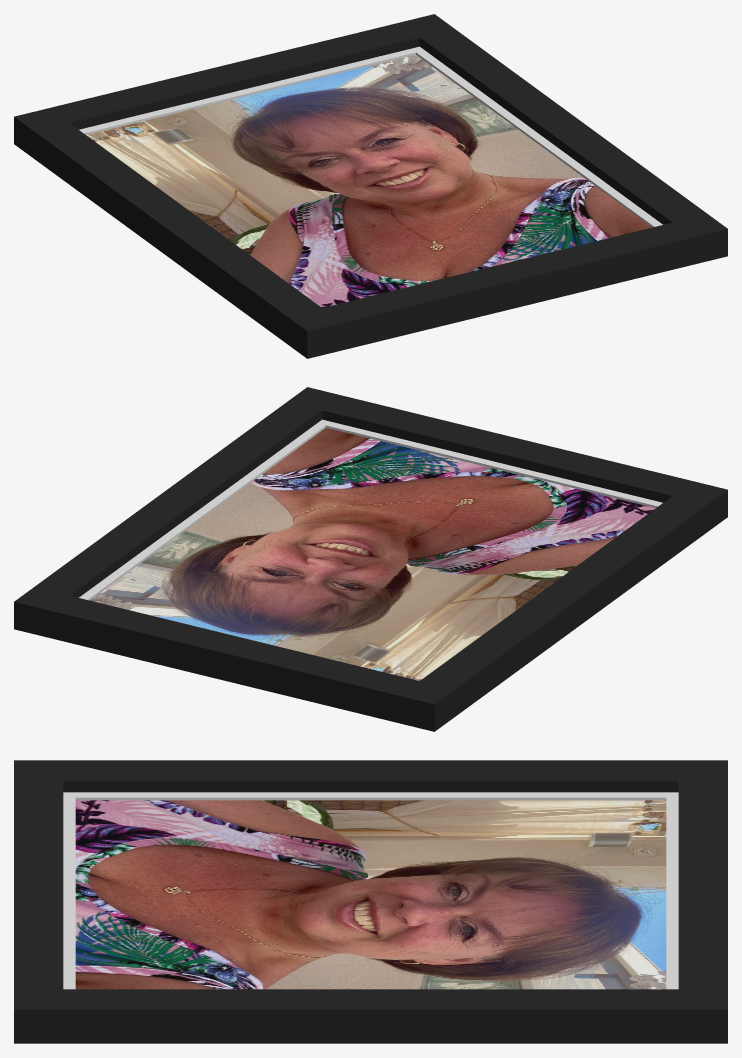
3 renders of one model, top to bottom at view 1: azimuth 30°, elevation 25°; view 2: azimuth 150°, elevation 25°; view 3: azimuth 270°, elevation 25°, orthographic. The views are drawn at different scales.
Parts seen in each view (by area): view 1: PhotoPlane.002, BuitenFrame, BinnenFrame; view 2: PhotoPlane.002, BuitenFrame, BinnenFrame; view 3: PhotoPlane.002, BuitenFrame, BinnenFrame.
Boxes of the visible parts, left/top/right/bottom form: PhotoPlane.002: left=86, top=55, right=651, bottom=307; BuitenFrame: left=14, top=14, right=727, bottom=358; BinnenFrame: left=79, top=46, right=662, bottom=227; PhotoPlane.002: left=90, top=428, right=655, bottom=680; BuitenFrame: left=14, top=387, right=727, bottom=731; BinnenFrame: left=79, top=419, right=662, bottom=600; PhotoPlane.002: left=75, top=800, right=666, bottom=989; BuitenFrame: left=14, top=760, right=727, bottom=1043; BinnenFrame: left=63, top=792, right=678, bottom=989.
Size of the model in its own units: 0.48 by 0.03 by 0.58.
3 materials, 1 textured.
